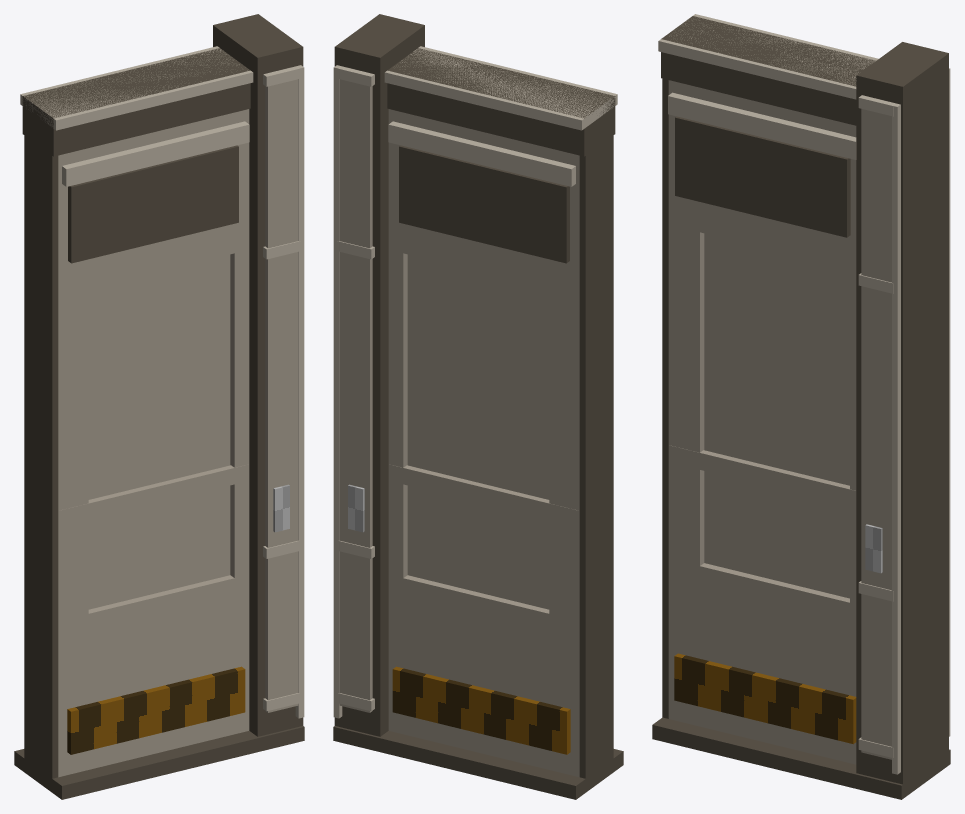
Rendered from CMU3DCMDoubleDoorGenericSolidCloud.glb.
3 renders of one model, left to right at view 1: azimuth 30°, elevation 25°; view 2: azimuth 150°, elevation 25°; view 3: azimuth 330°, elevation 25°, orthographic. The views are drawn at different scales.
Visible parts, largest first — view 1: recessed solid central infill, leaf lower rail, meeting edge seal, jamb recessed tall face -1, outer structural jamb, upper recessed header -1, continuous overhead structural guide, leaf upper rail, leaf west stile, original lower hazard stripe -1, full opening threshold, leaf east stile (+5 smaller); view 2: recessed solid central infill, leaf lower rail, meeting edge seal, jamb recessed tall face 1, outer structural jamb, upper recessed header 1, continuous overhead structural guide, leaf upper rail, leaf west stile, original lower hazard stripe 1, upper guide lip, full opening threshold (+5 smaller); view 3: recessed solid central infill, outer structural jamb, leaf lower rail, jamb recessed tall face -1, upper recessed header -1, leaf west stile, continuous overhead structural guide, leaf upper rail, original lower hazard stripe -1, full opening threshold, jamb pale outer rail -1, upper guide lip (+6 smaller).
Part boxes in pixels (x1,y1,x2,y2): recessed solid central infill: (88,254,230,609); leaf lower rail: (58,575,249,777); meeting edge seal: (24,135,58,778); jamb recessed tall face -1: (265,79,298,712); outer structural jamb: (213,14,303,736); upper recessed header -1: (68,145,238,263); continuous overhead structural guide: (22,48,250,156); leaf upper rail: (58,109,249,296); leaf west stile: (58,289,88,620); original lower hazard stripe -1: (67,666,245,754); full opening threshold: (14,726,304,799); leaf east stile: (230,250,249,577); recessed solid central infill: (407,254,549,609); leaf lower rail: (388,575,579,777); meeting edge seal: (579,135,613,778); jamb recessed tall face 1: (339,79,372,712); outer structural jamb: (334,14,424,736); upper recessed header 1: (399,145,569,263); continuous overhead structural guide: (387,48,615,156); leaf upper rail: (388,109,579,296); leaf west stile: (549,289,579,620); original lower hazard stripe 1: (392,666,570,754); upper guide lip: (384,46,617,130); full opening threshold: (333,726,623,799); recessed solid central infill: (704,233,849,598); outer structural jamb: (856,42,948,784); leaf lower rail: (668,558,856,764); jamb recessed tall face -1: (861,109,891,759); upper recessed header -1: (675,116,850,237); leaf west stile: (668,225,704,565); continuous overhead structural guide: (661,16,875,125); leaf upper rail: (668,80,856,270); original lower hazard stripe -1: (674,653,856,744); full opening threshold: (652,717,950,799); jamb pale outer rail -1: (892,103,900,774); upper guide lip: (658,14,878,99).
Size of the model in its own units: 1 by 2.73 by 0.38.
Materials: 5 (2 with a texture image).
